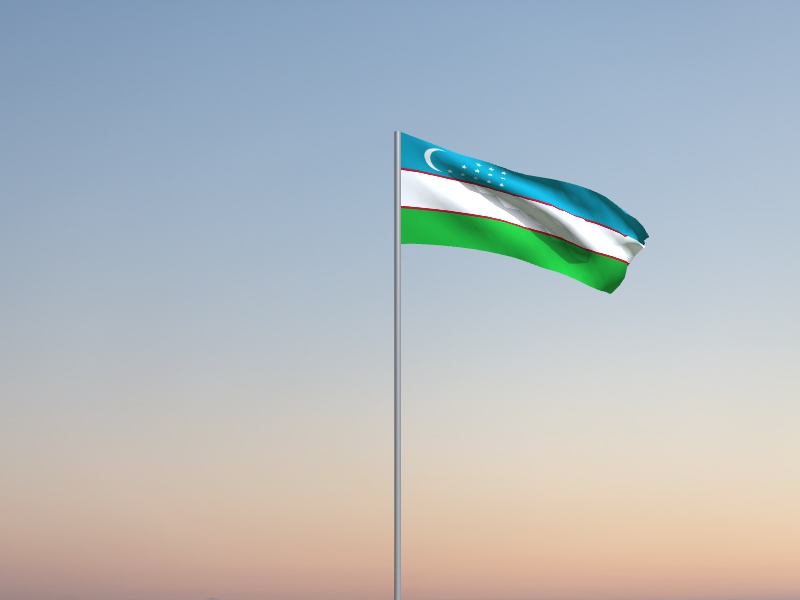uz: (401, 133, 650, 295)
